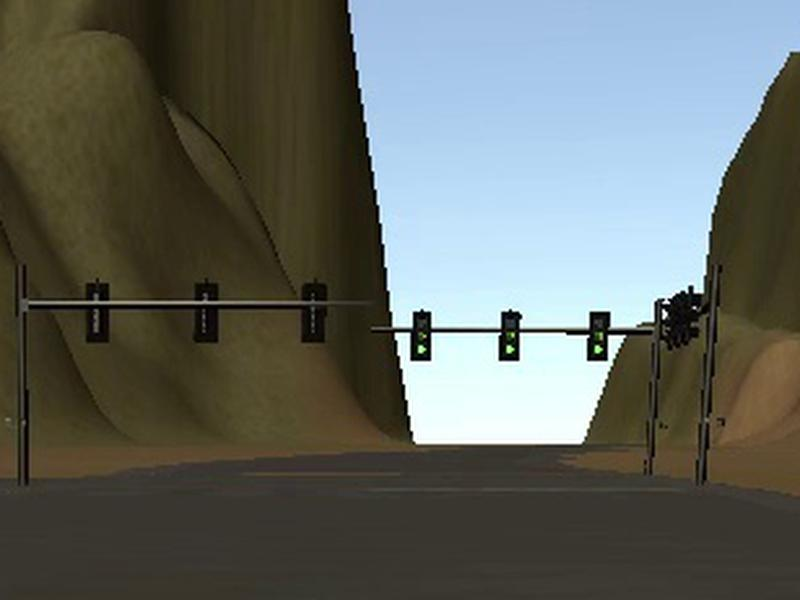Green: (586, 311, 610, 360), (409, 312, 432, 360), (498, 312, 520, 361)
